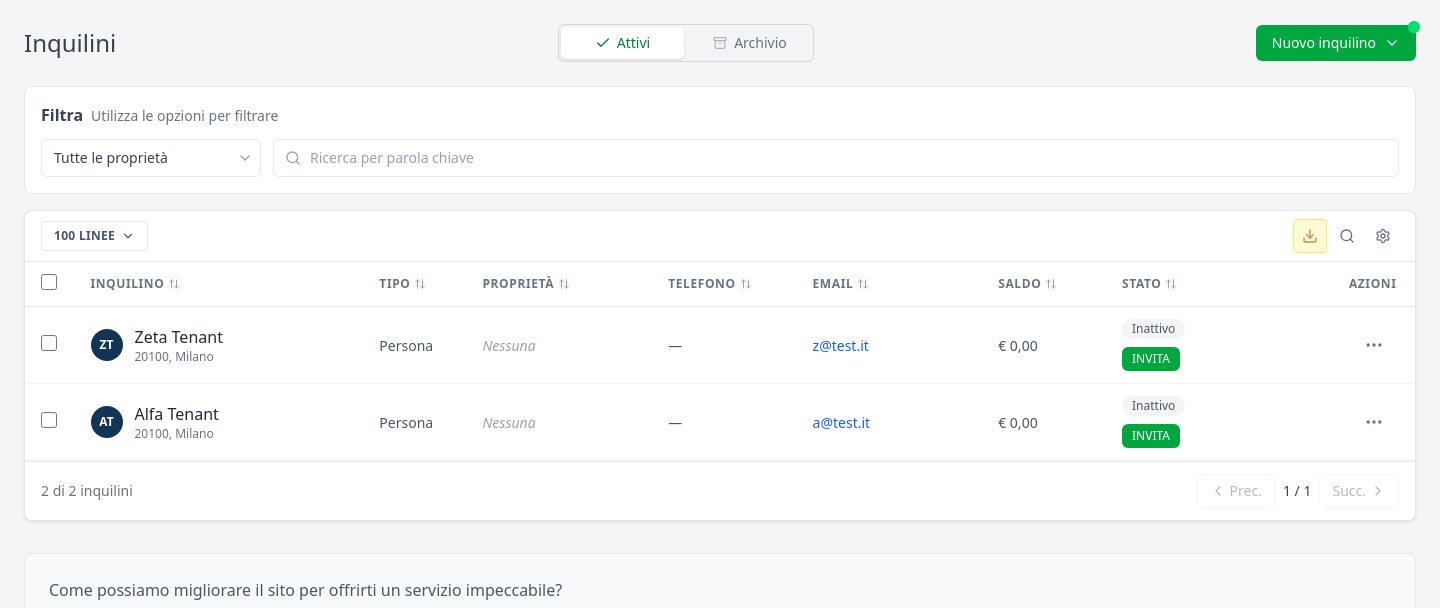
Test: C6.1 controlli Tenant simulati › rimuove Ordina fake, mantiene sorting header e invito locale
Click the column heading "Inquilino": [127, 284] box [74,262,363,306]
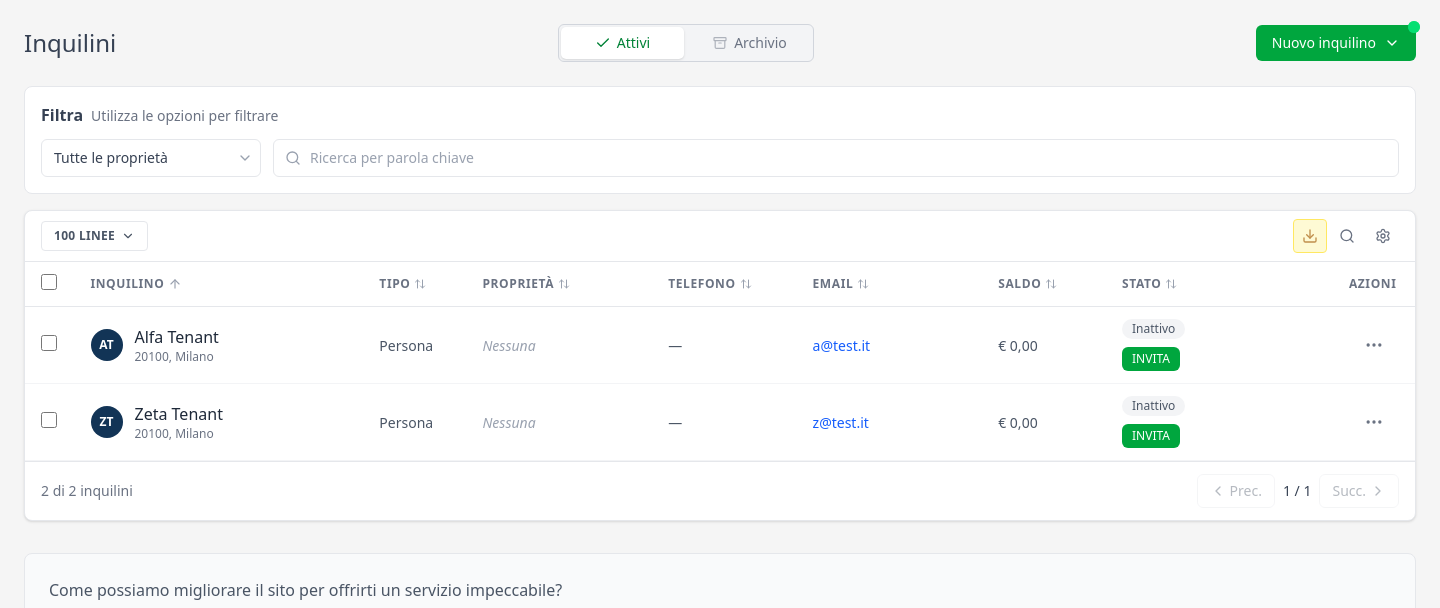
Check: the row that starts with "Alfa Tenant" is shown, box [134,325,219,349]
Click the button "INVITA" in the row of "a@test.it": [1151, 359] box [1122,347,1180,371]
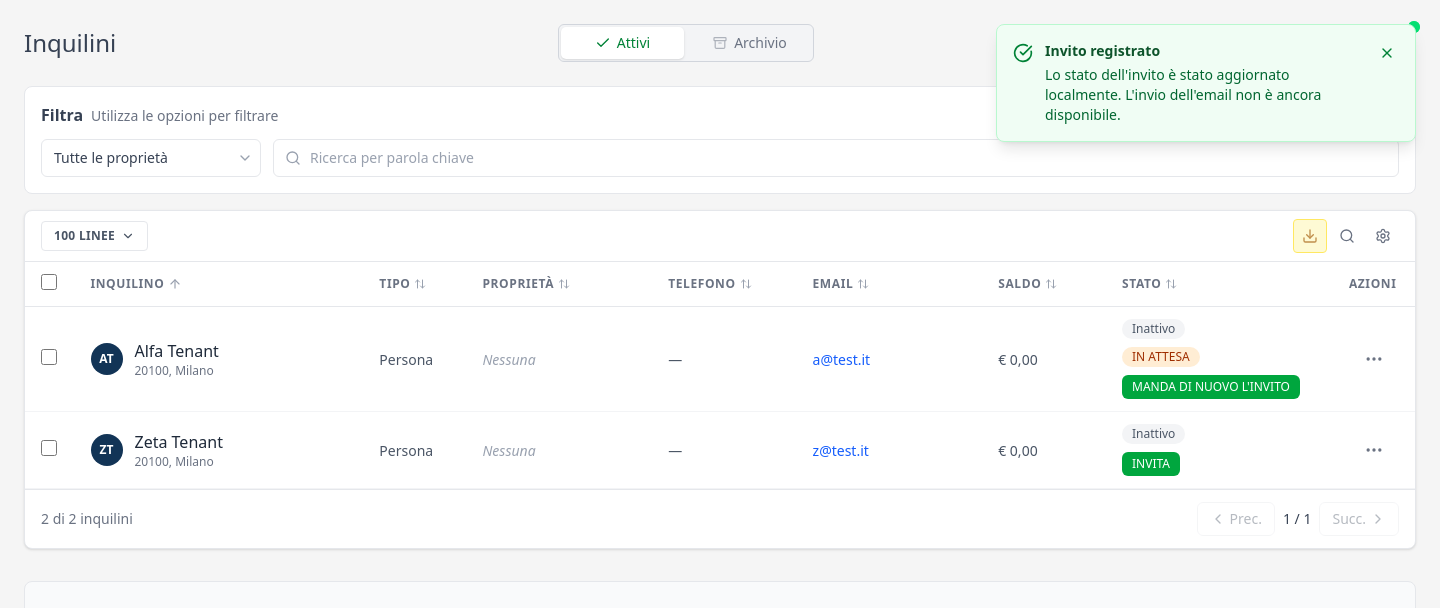
Check: the text "IN ATTESA" is shown, box [1122,347,1200,367]
